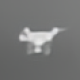plane: (17, 24, 69, 57)
